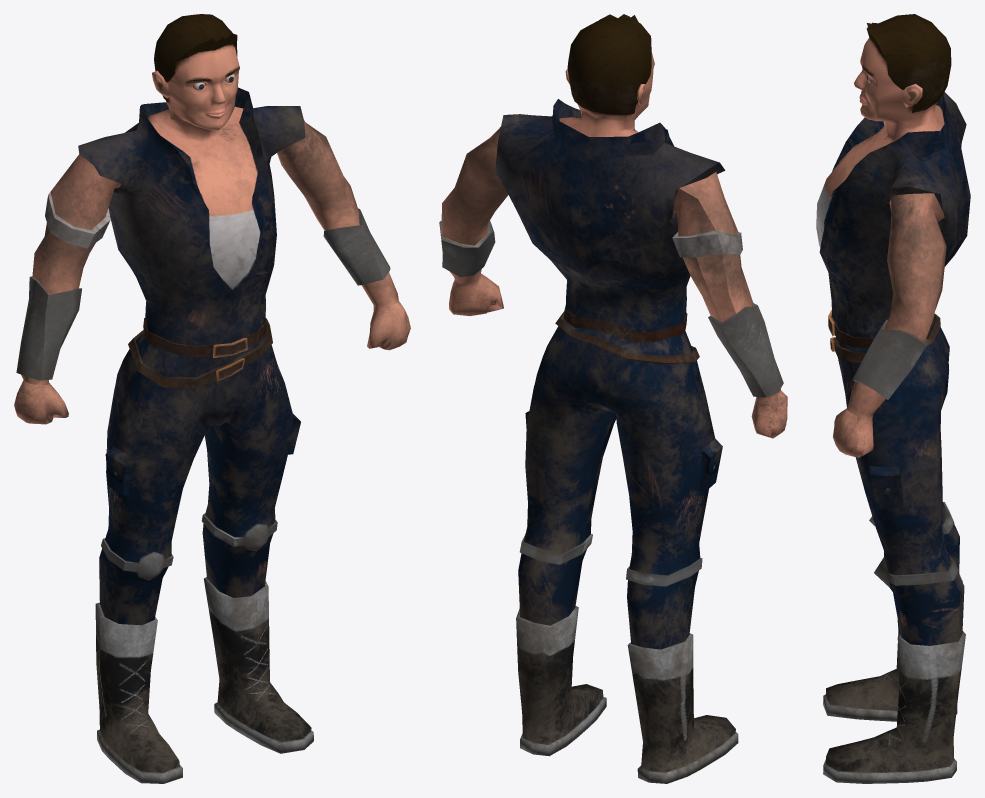
The model's file is Anim_idle_jugador.0018.obj.
3 renders of one model, left to right at view 1: azimuth 30°, elevation 25°; view 2: azimuth 150°, elevation 25°; view 3: azimuth 270°, elevation 25°, orthographic.
Parts seen in each view (by area): view 1: polySurface1; view 2: polySurface1; view 3: polySurface1.
Part boxes in pixels (left/top/right/bottom): polySurface1: left=14, top=14, right=410, bottom=783; polySurface1: left=439, top=14, right=787, bottom=783; polySurface1: left=816, top=14, right=970, bottom=783.
Size of the model in its own units: 5.07 by 9.64 by 1.86.
